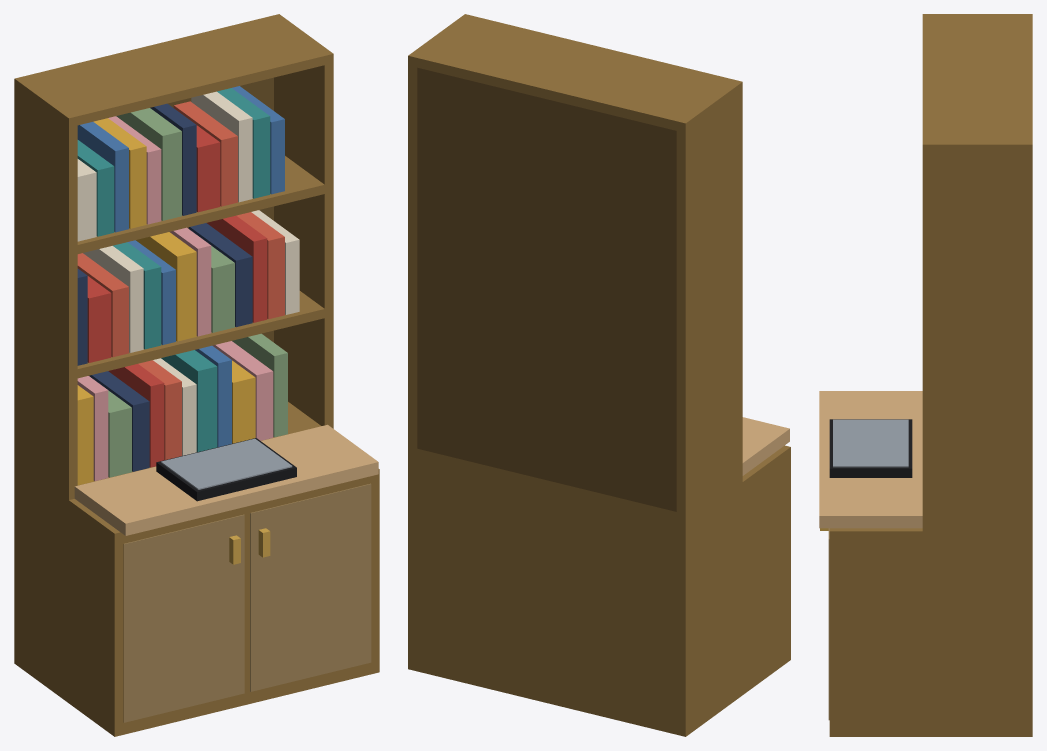
Rendered from bookcase_desk.glb.
The picture shows the model from 3 angles, left to right: view 1: azimuth 30°, elevation 25°; view 2: azimuth 150°, elevation 25°; view 3: azimuth 270°, elevation 25°; orthographic projection. The views are drawn at different scales.
Parts seen in each view (by area): view 1: bookcase_desk_Body, bookcase_desk_Board; view 2: bookcase_desk_Body, bookcase_desk_Board; view 3: bookcase_desk_Body, bookcase_desk_Board.
Part boxes in pixels (x1,y1,x2,y2): bookcase_desk_Body: (14,14,379,736); bookcase_desk_Board: (74,424,378,535); bookcase_desk_Body: (408,14,790,736); bookcase_desk_Board: (742,417,789,475); bookcase_desk_Body: (820,14,1032,736); bookcase_desk_Board: (819,391,922,528).
Size of the model in its own units: 0.9 by 1.9 by 0.62.
